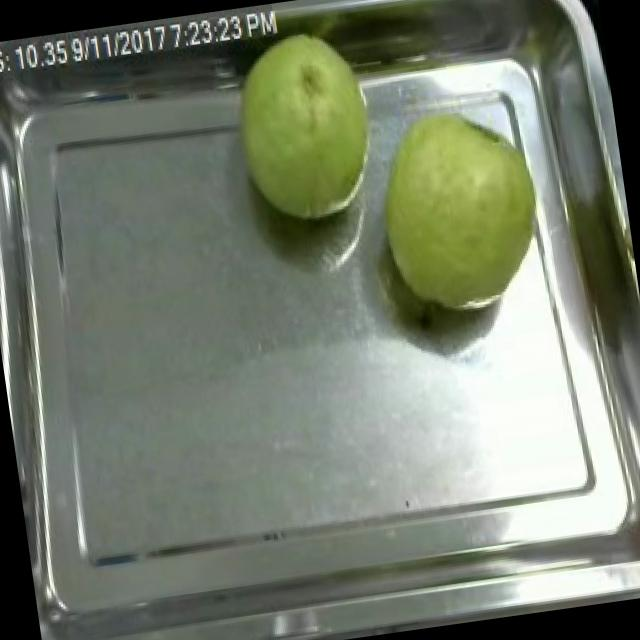Fruit: (349, 82, 574, 332), (214, 12, 398, 240)
